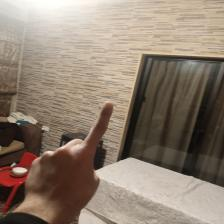one: (26, 101, 116, 211)
